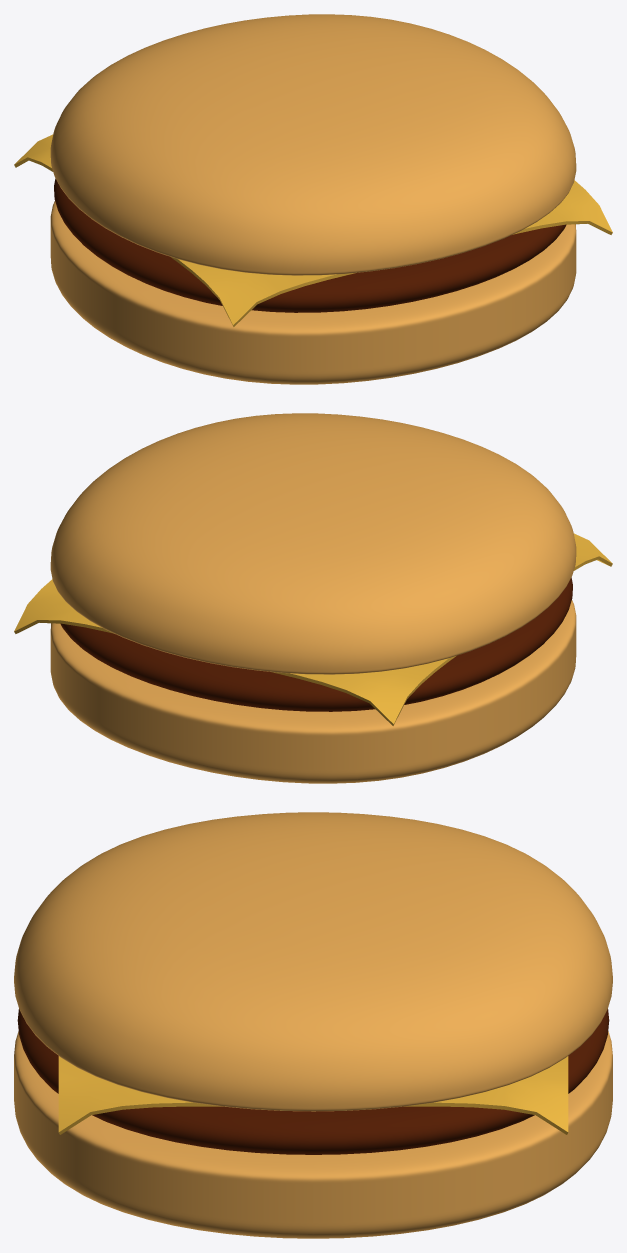
Rendered from hamburger.glb.
3 views of the same model, one above another, from view 1: azimuth 30°, elevation 25°; view 2: azimuth 150°, elevation 25°; view 3: azimuth 270°, elevation 25° (orthographic). The views are drawn at different scales.
Parts seen in each view (by area): view 1: Cube.001, Cube, Cube.002, Plane; view 2: Cube.001, Cube, Cube.002, Plane; view 3: Cube.001, Cube, Cube.002, Plane.
Part boxes in pixels (x1=…): Cube.001: x1=50, y1=14, x2=576, y2=275; Cube: x1=50, y1=201, x2=576, y2=384; Cube.002: x1=54, y1=178, x2=566, y2=312; Plane: x1=14, y1=134, x2=612, y2=326; Cube.001: x1=50, y1=413, x2=576, y2=674; Cube: x1=50, y1=600, x2=576, y2=783; Cube.002: x1=60, y1=577, x2=572, y2=711; Plane: x1=14, y1=533, x2=612, y2=725; Cube.001: x1=14, y1=812, x2=612, y2=1111; Cube: x1=14, y1=1031, x2=612, y2=1238; Cube.002: x1=17, y1=1009, x2=609, y2=1154; Plane: x1=58, y1=1056, x2=568, y2=1134.
Bounding box in the file's own units: 9.18 × 4.18 × 9.18.
